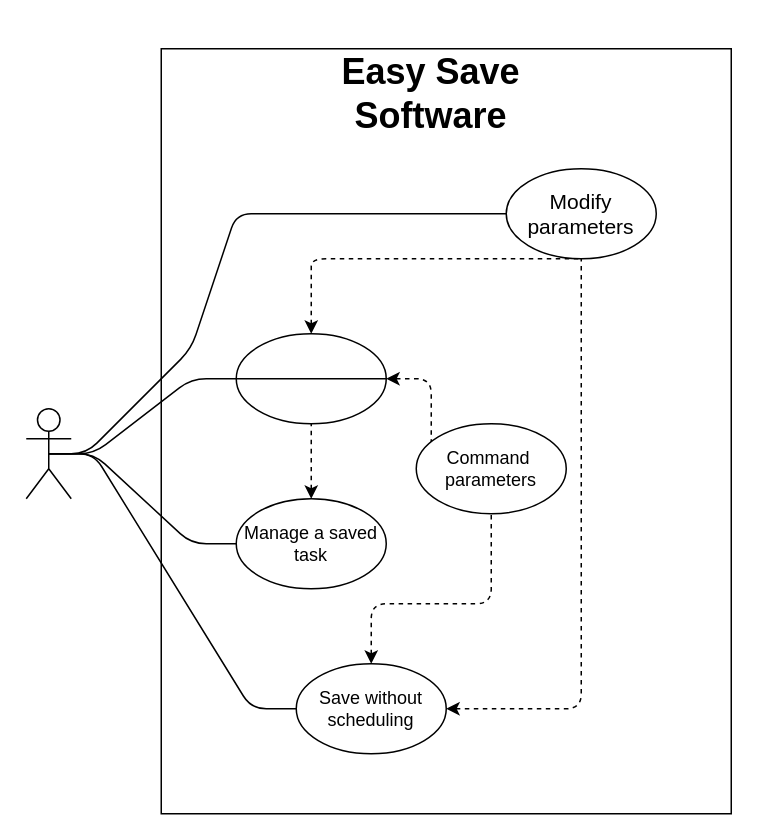
Some shapes in this 758 by 840 pixel diagram are drawn without their labels. Each missing label, with the centre of its shape:
"Plan a task Unlimited task" belongs at [310,378].
"User" belongs at [48,453].
